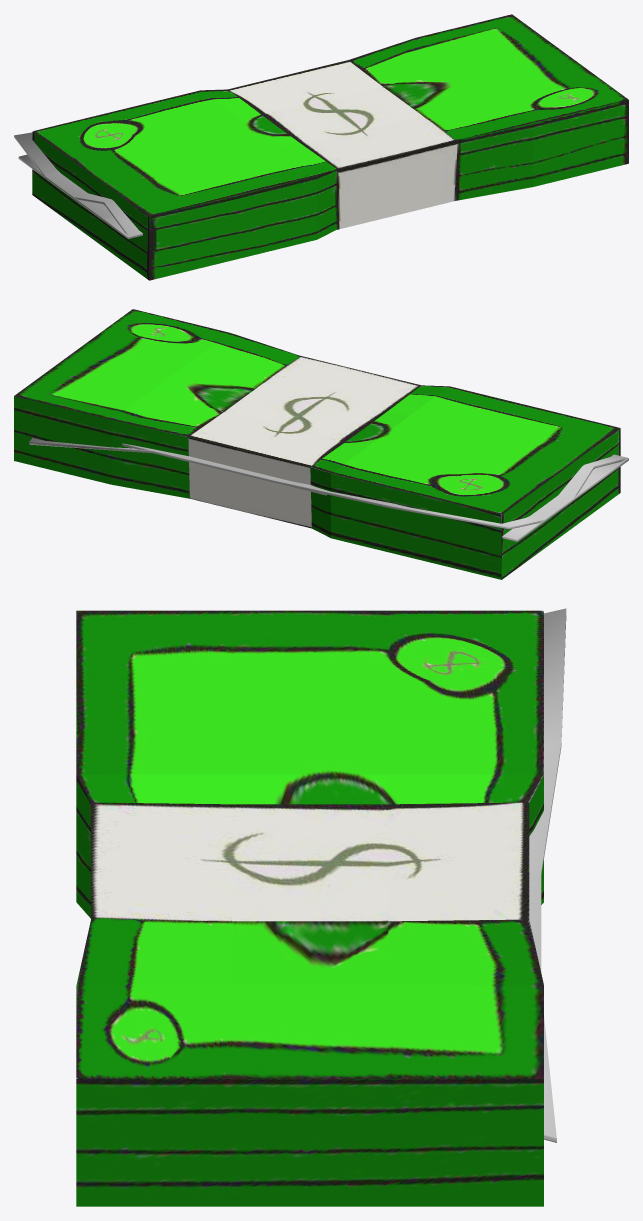
File: paralar.fbx
The picture shows the model from 3 angles, top to bottom: view 1: azimuth 30°, elevation 25°; view 2: azimuth 150°, elevation 25°; view 3: azimuth 270°, elevation 25°; orthographic projection. The views are drawn at different scales.
Parts seen in each view (by area): view 1: deste para, Tek para, tek para2; view 2: deste para, Tek para, tek para2; view 3: deste para, Tek para.
Boxes of the visible parts, x1=… form: deste para: x1=32, y1=14, x2=628, y2=280; Tek para: x1=14, y1=132, x2=142, y2=236; tek para2: x1=18, y1=154, x2=142, y2=239; deste para: x1=14, y1=309, x2=620, y2=579; Tek para: x1=29, y1=438, x2=626, y2=529; tek para2: x1=122, y1=443, x2=628, y2=541; deste para: x1=76, y1=610, x2=543, y2=1206; Tek para: x1=529, y1=608, x2=566, y2=1142.
Bounding box in the file's own units: 27.04 × 3.34 × 11.61.
